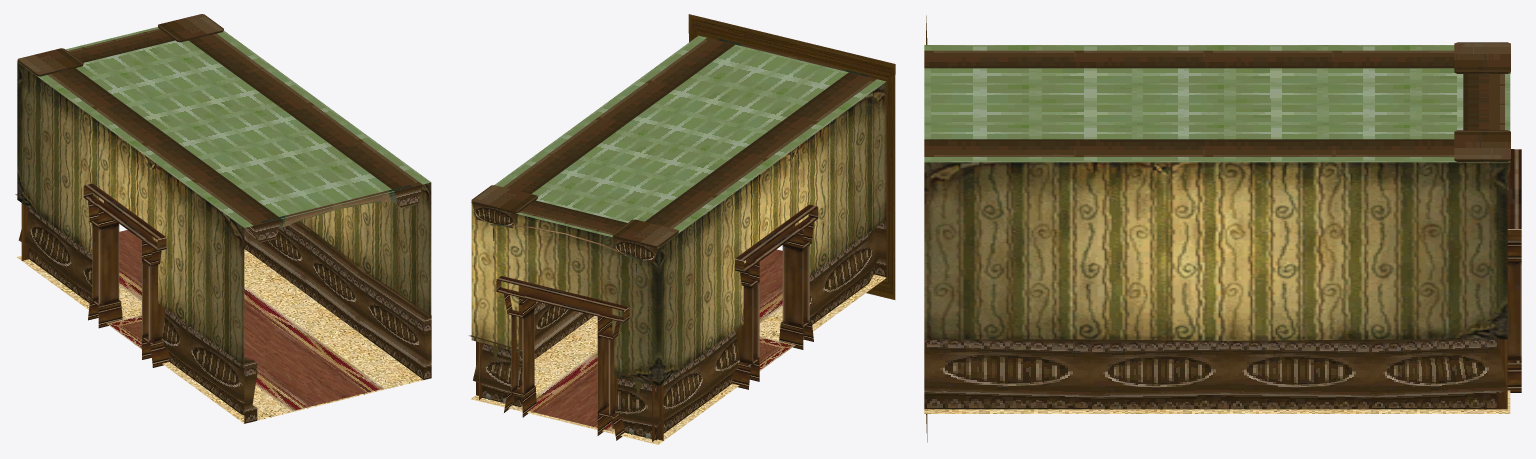
The model's file is room_07.glb.
The picture shows the model from 3 angles, left to right: view 1: azimuth 30°, elevation 25°; view 2: azimuth 150°, elevation 25°; view 3: azimuth 270°, elevation 25°; orthographic projection. The views are drawn at different scales.
Visible parts, largest first — view 1: room_07; view 2: room_07; view 3: room_07.
Boxes of the visible parts, x1,y1,x2,y2 form: room_07: [15, 14, 431, 423]; room_07: [469, 14, 895, 444]; room_07: [924, 15, 1521, 442].
Size of the model in its own units: 550 by 600 by 1075.
16 materials, 16 textured.
